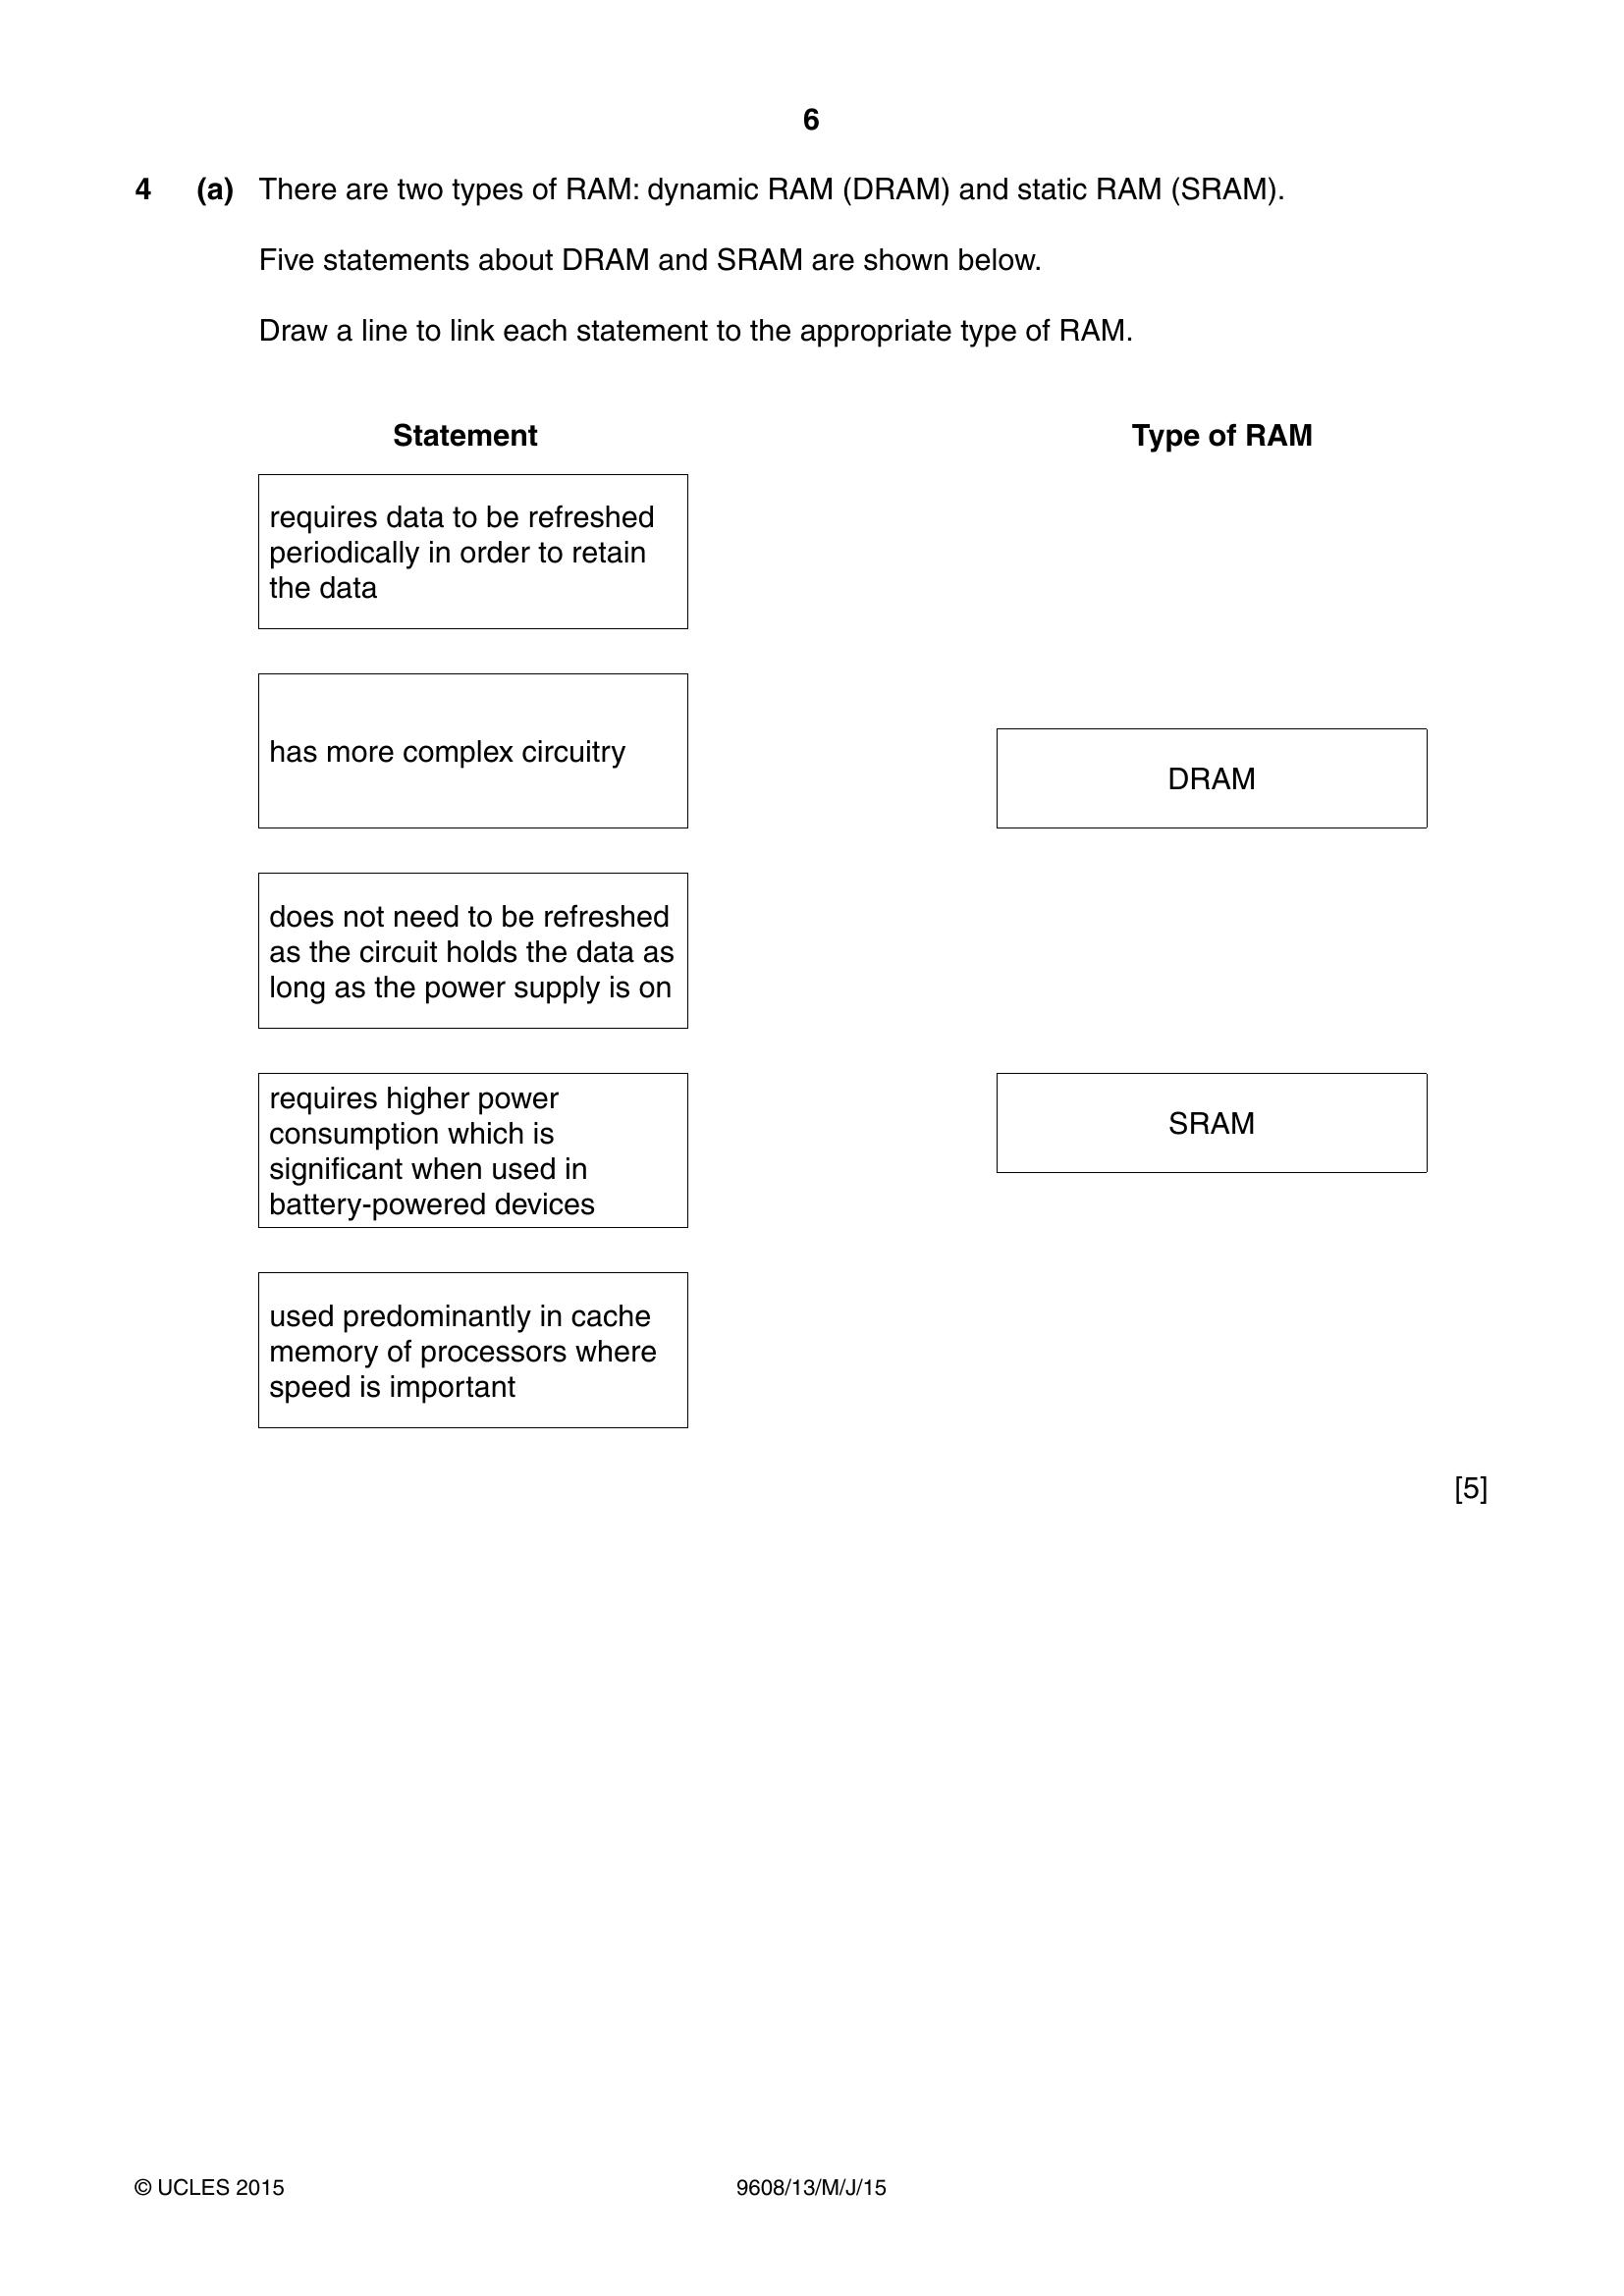question: (2, 163, 1624, 1572)
